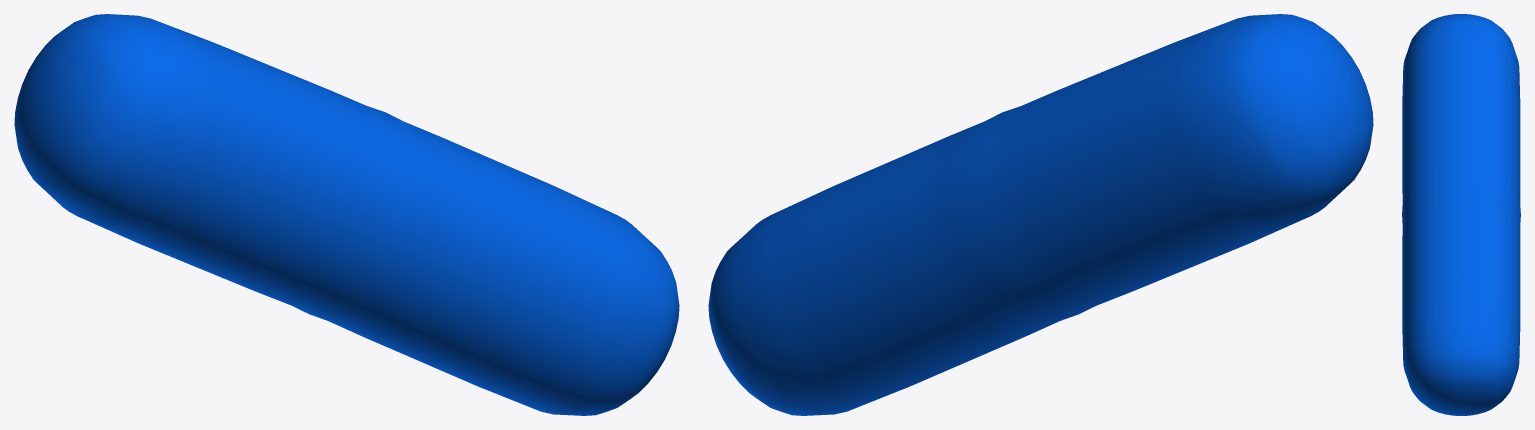
3 renders of one model, left to right at view 1: azimuth 30°, elevation 25°; view 2: azimuth 150°, elevation 25°; view 3: azimuth 270°, elevation 25°, orthographic. The views are drawn at different scales.
Visible parts, largest first — view 1: lv_3_10; view 2: lv_3_10; view 3: lv_3_10.
Boxes of the visible parts, x1=… form: lv_3_10: x1=14, y1=14, x2=679, y2=415; lv_3_10: x1=708, y1=14, x2=1373, y2=415; lv_3_10: x1=1402, y1=14, x2=1520, y2=415.
Bounding box in the file's own units: 39.26 × 29.21 × 11.61.
